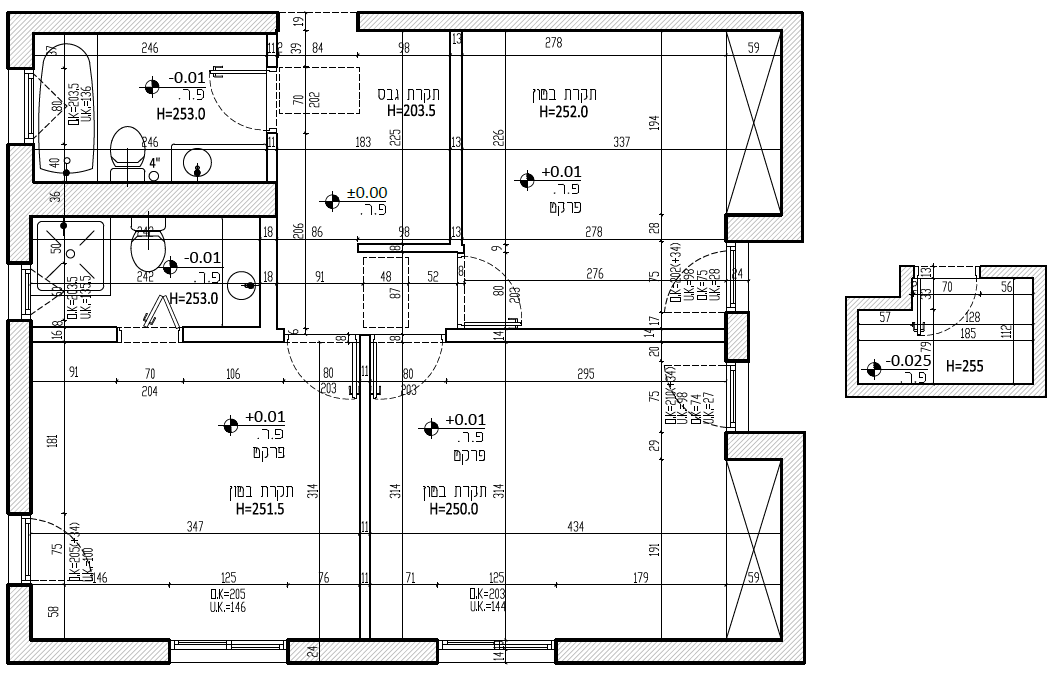door: (204, 60, 262, 138)
wall: (358, 14, 798, 31), (73, 184, 274, 216), (10, 10, 277, 32), (780, 433, 805, 666), (555, 638, 771, 662), (8, 321, 32, 511), (784, 38, 805, 242), (8, 637, 170, 662)
